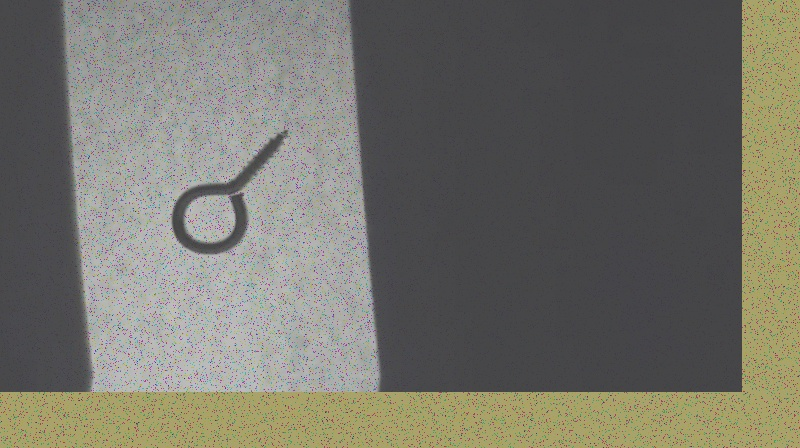O001: (166, 121, 291, 255)
